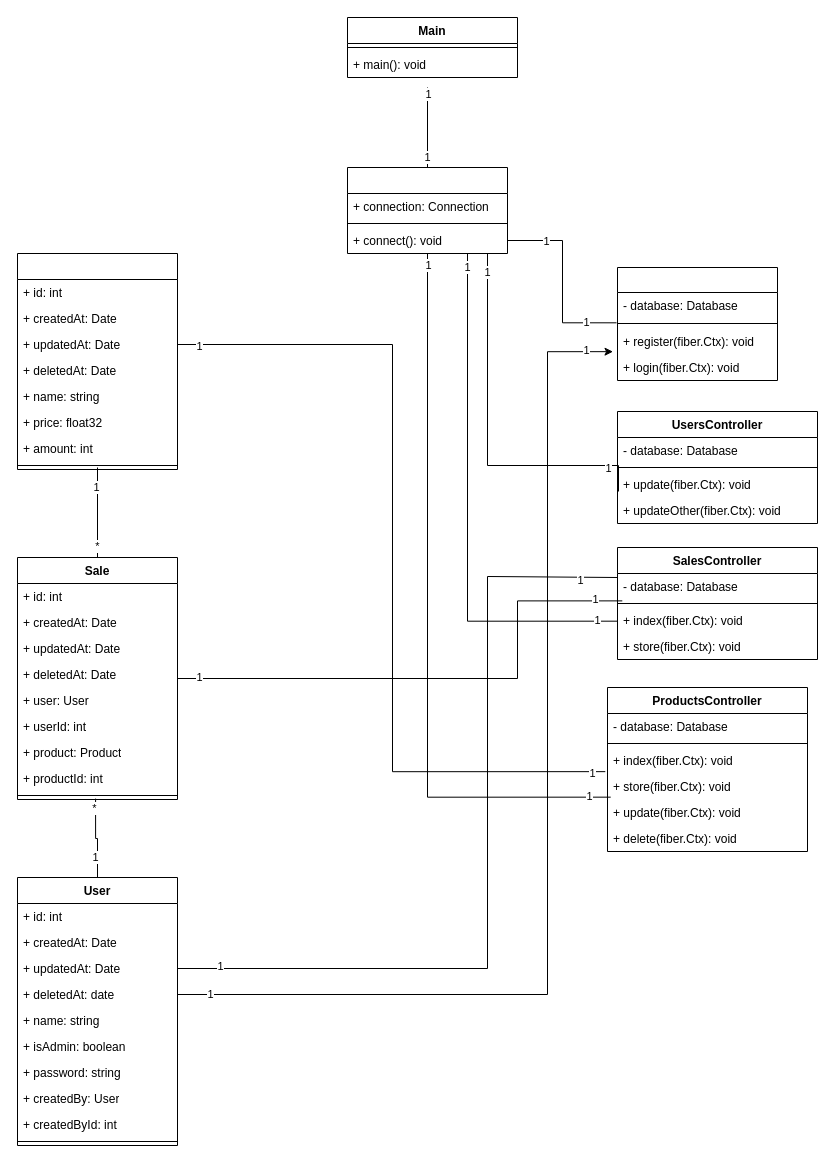
This 835x1163 diagram has some shape labels left out. The box of each missing label's shape, as (x1, y1, x2, y2) in pixels:
AuthController: (616, 266, 778, 380)
Database: (346, 166, 508, 254)
Product: (16, 252, 178, 470)
